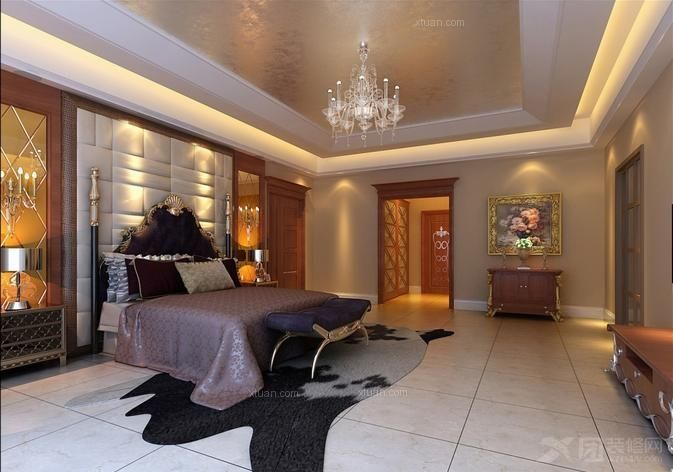床: (107, 284, 364, 403)
枕头: (122, 254, 240, 300)
灯: (320, 30, 408, 149), (0, 244, 41, 309), (253, 249, 272, 282)
